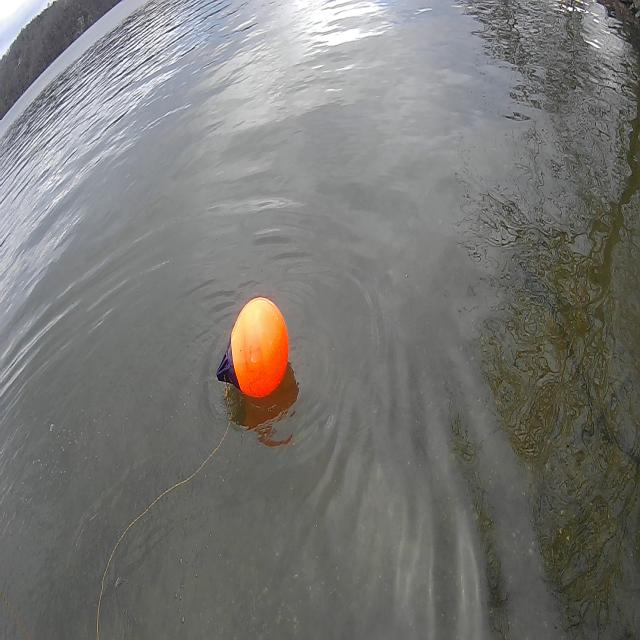Buoy: (228, 290, 291, 404)
